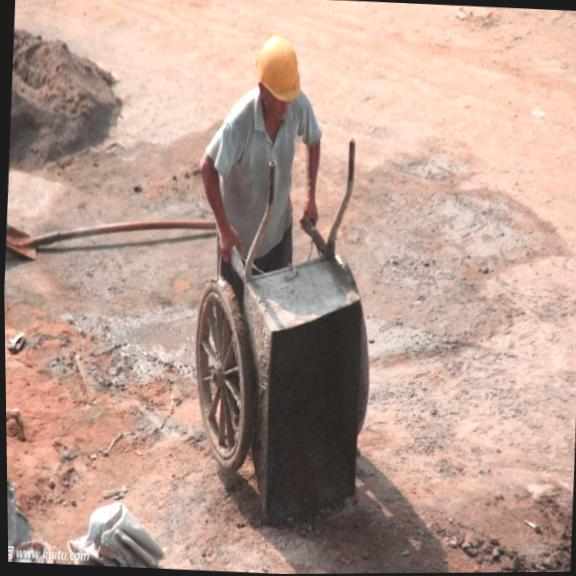no_safety_vest: (199, 94, 321, 265)
